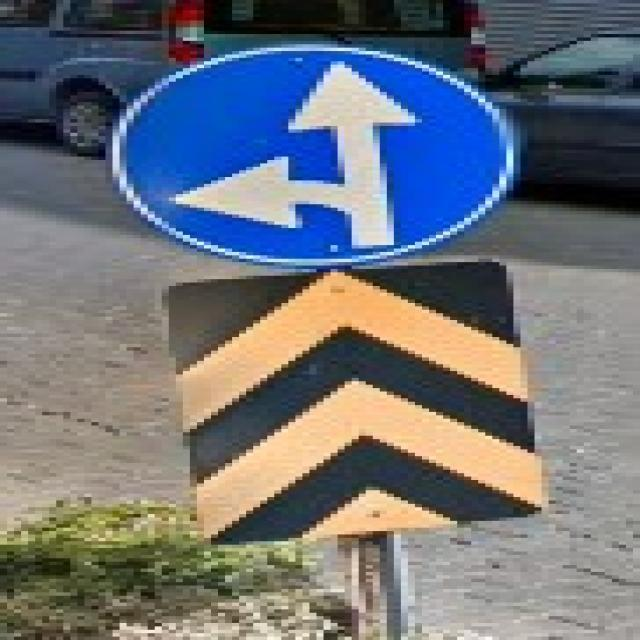Straight or Left: (114, 43, 515, 265)
